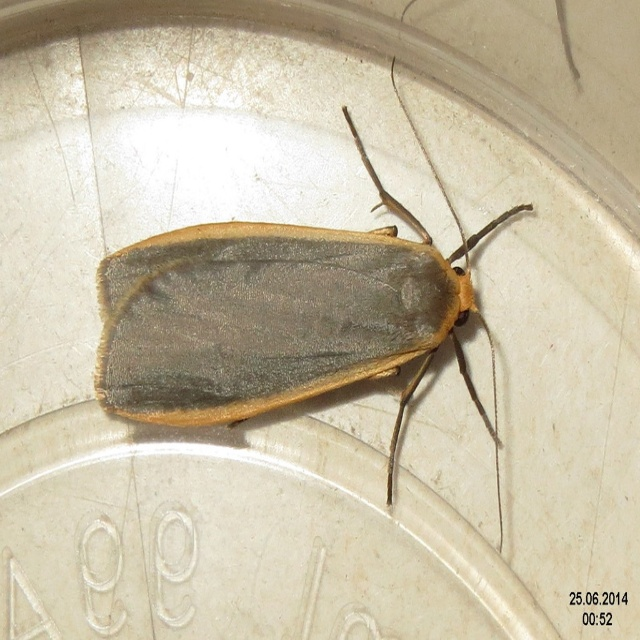Moths and butterflies: (95, 54, 535, 557)
